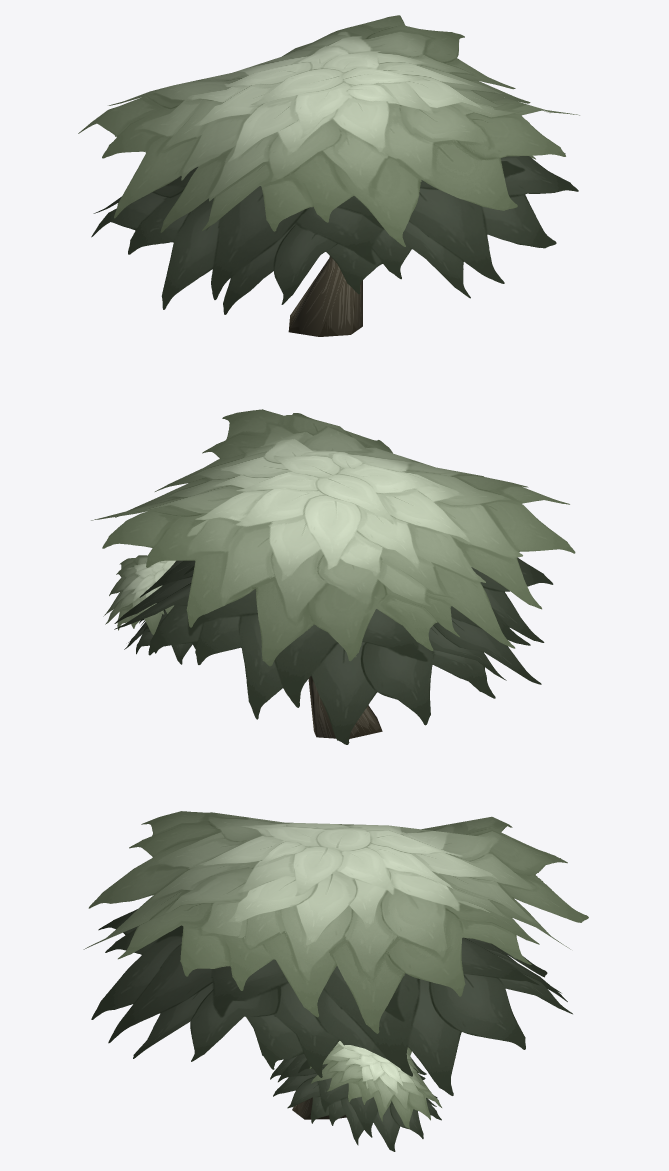
The model's file is Bush.fbx.
The picture shows the model from 3 angles, top to bottom: view 1: azimuth 30°, elevation 25°; view 2: azimuth 150°, elevation 25°; view 3: azimuth 270°, elevation 25°; orthographic projection. The views are drawn at different scales.
Parts seen in each view (by area): view 1: pPlane11; view 2: pPlane11; view 3: pPlane11.
Boxes of the visible parts, <box> form: pPlane11: <box>78,15,579,336</box>; pPlane11: <box>91,409,575,744</box>; pPlane11: <box>83,811,588,1151</box>.
Size of the model in its own units: 4.99 by 2.33 by 5.01.
